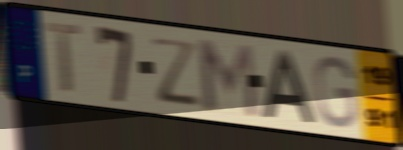7: (94, 22, 133, 105)
A: (260, 47, 318, 125)
G: (312, 53, 360, 130)
M: (193, 35, 261, 121)
T: (43, 21, 84, 96)
Z: (148, 34, 203, 109)
